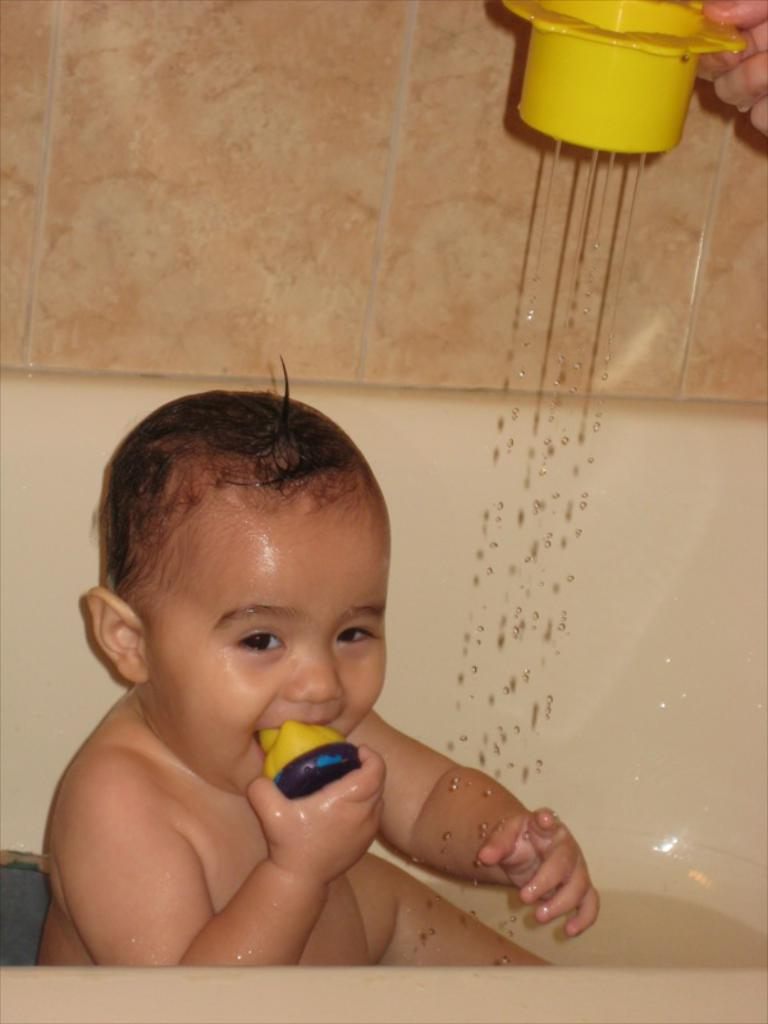Person: (36, 353, 600, 968)
